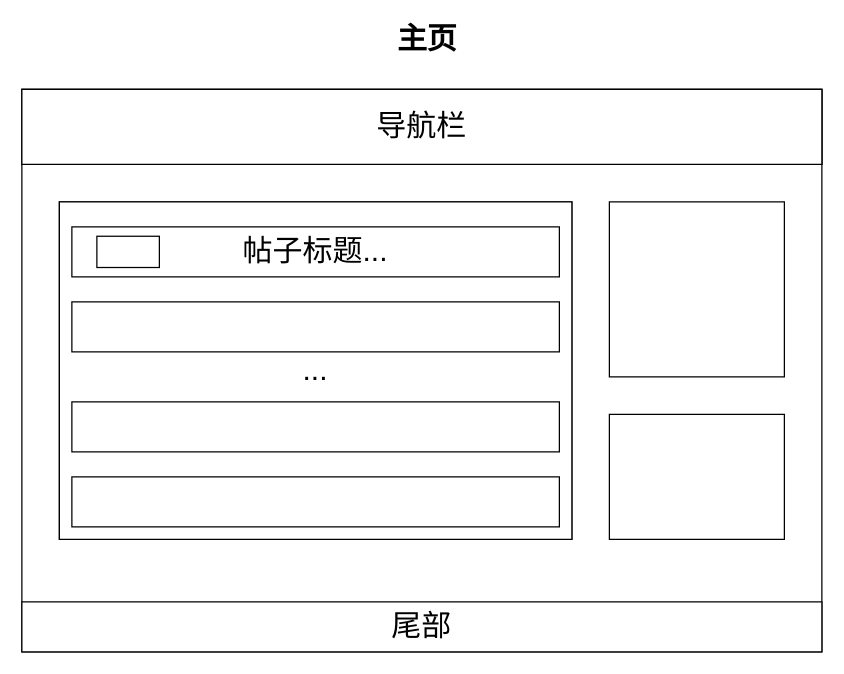
Image size: 844x674. Some labels were removed from this diagram. Each missing label, with the centre of its shape:
头像: [127,251]
活跃用户: [696,289]
资源推荐: [696,476]
